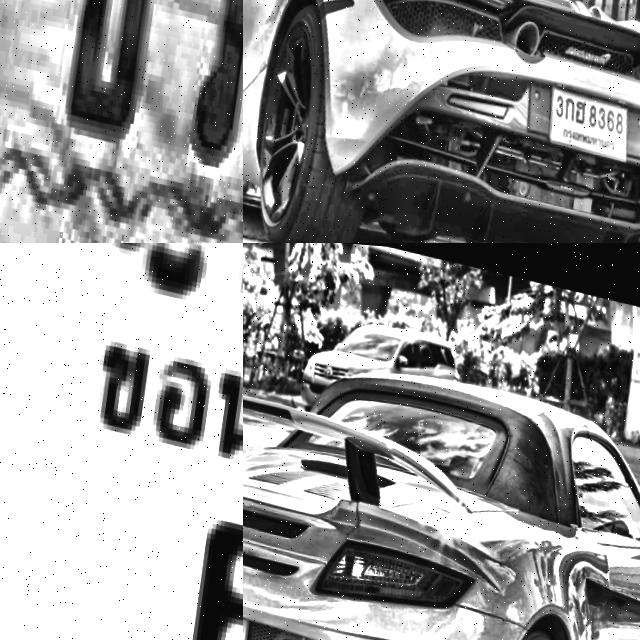license-plate: (0, 243, 243, 640), (0, 0, 243, 243), (537, 71, 635, 157)
